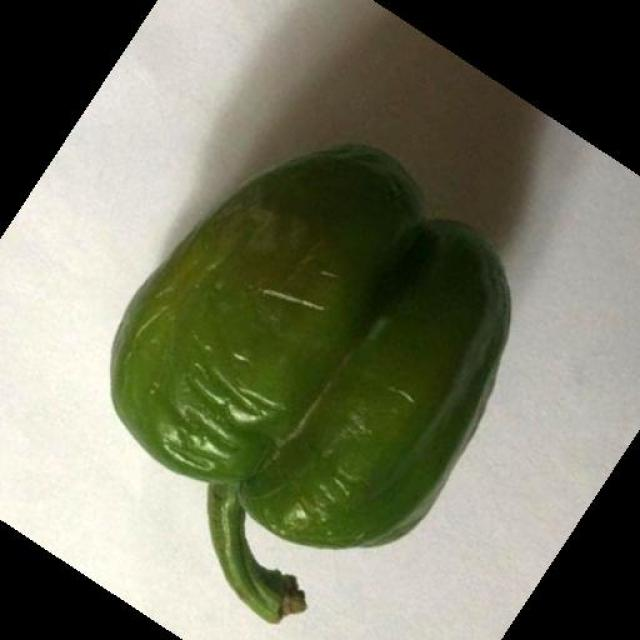Stale_Capsicum: (91, 133, 518, 546)
